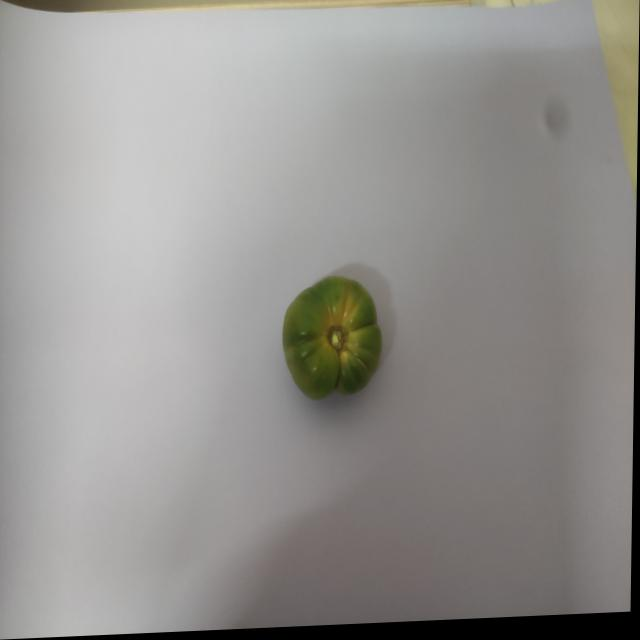yesil: (276, 263, 394, 411)
